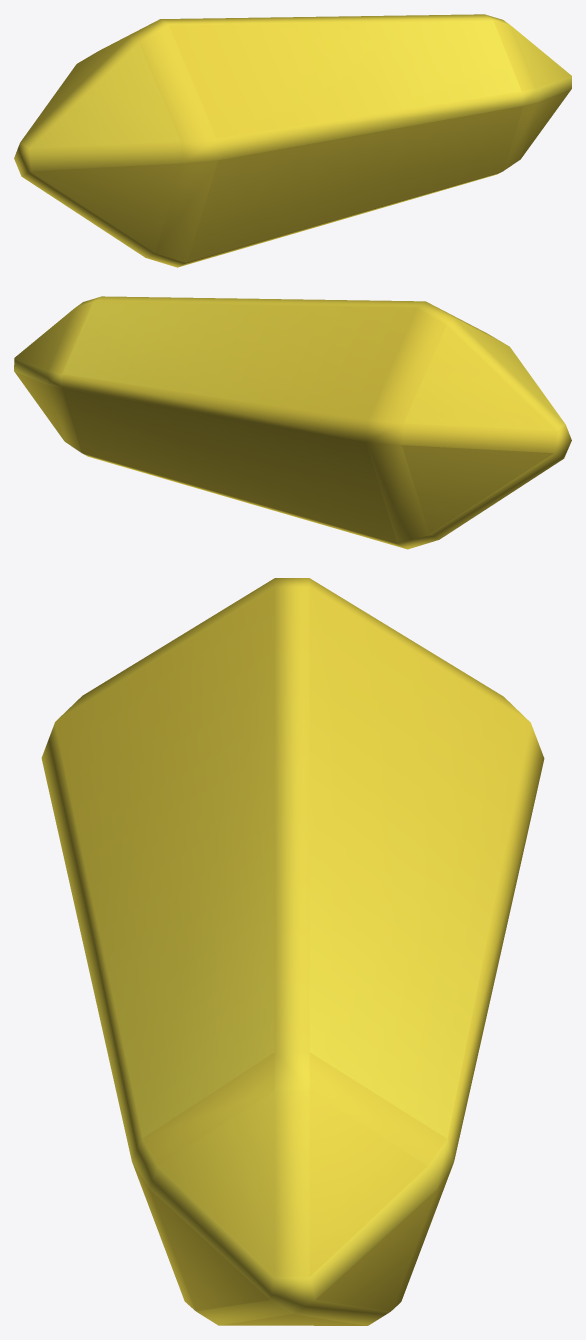
The model's file is christal_topaz_2.fbx.
The picture shows the model from 3 angles, top to bottom: view 1: azimuth 30°, elevation 25°; view 2: azimuth 150°, elevation 25°; view 3: azimuth 270°, elevation 25°; orthographic projection. The views are drawn at different scales.
Visible parts, largest first — view 1: christal_topaz_2; view 2: christal_topaz_2; view 3: christal_topaz_2.
Boxes of the visible parts, x1,y1,x2,y2 form: christal_topaz_2: (14, 14, 571, 267); christal_topaz_2: (14, 296, 571, 549); christal_topaz_2: (41, 578, 544, 1325).
Size of the model in its own units: 86.4 by 32.67 by 34.49.
Materials: 1 (1 with a texture image).
